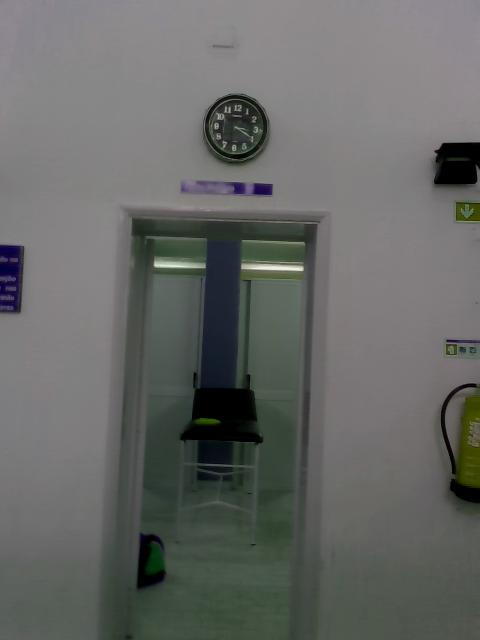open_door: (97, 204, 327, 638)
